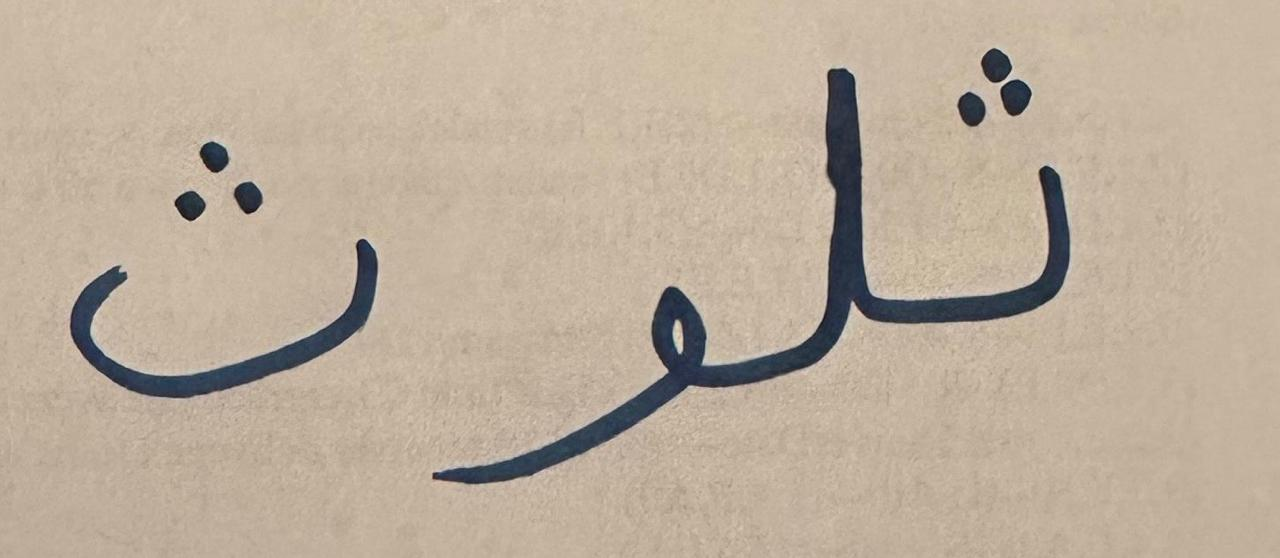meem: (735, 27, 906, 421)
waw: (56, 76, 401, 446), (909, 30, 1120, 394)
yeh: (406, 227, 732, 505)
